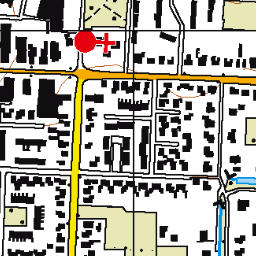church: (73, 27, 117, 58)
